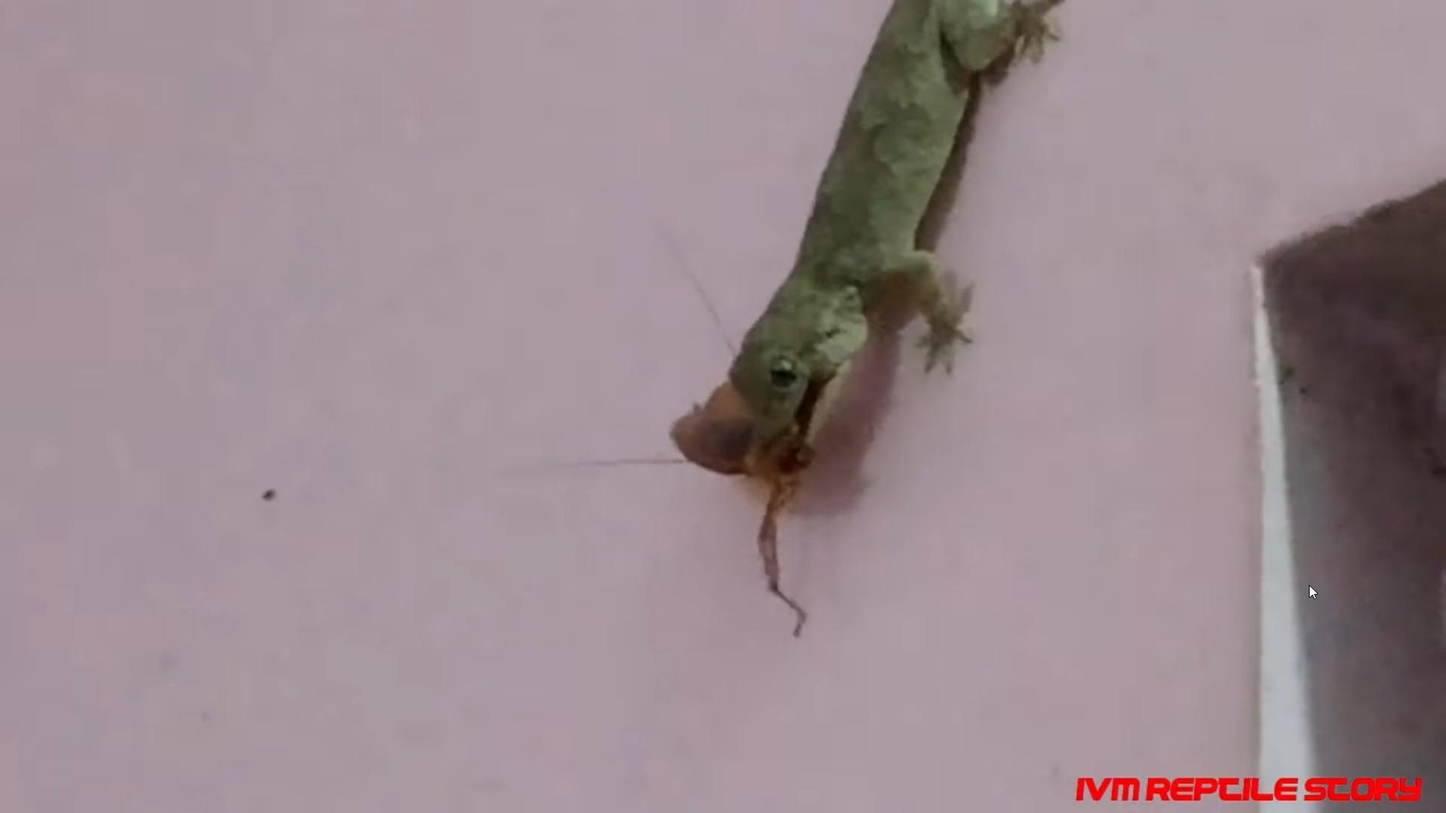cockroach: (631, 357, 829, 536)
lizard: (709, 10, 1010, 415)
